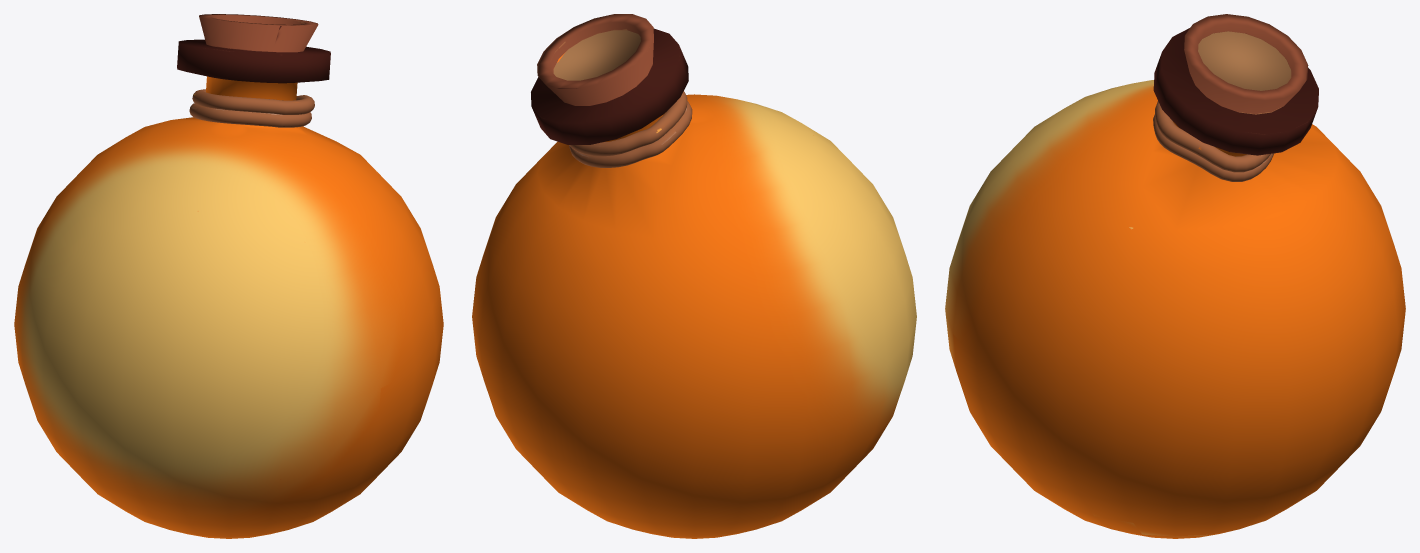
The model's file is Item4.fbx.
The picture shows the model from 3 angles, left to right: view 1: azimuth 30°, elevation 25°; view 2: azimuth 150°, elevation 25°; view 3: azimuth 270°, elevation 25°; orthographic projection. The views are drawn at different scales.
Visible parts, largest first — view 1: item 4; view 2: item 4; view 3: item 4.
Boxes of the visible parts, x1,y1,x2,y2 form: item 4: (14,14,443,538); item 4: (472,14,916,538); item 4: (945,14,1405,538).
Bounding box in the file's own units: 243 × 297 × 243.
